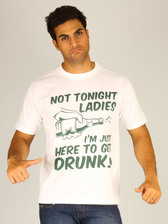clothoes: (11, 58, 150, 209)
